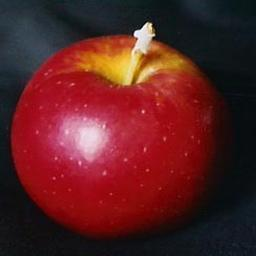apple: (10, 21, 229, 241)
